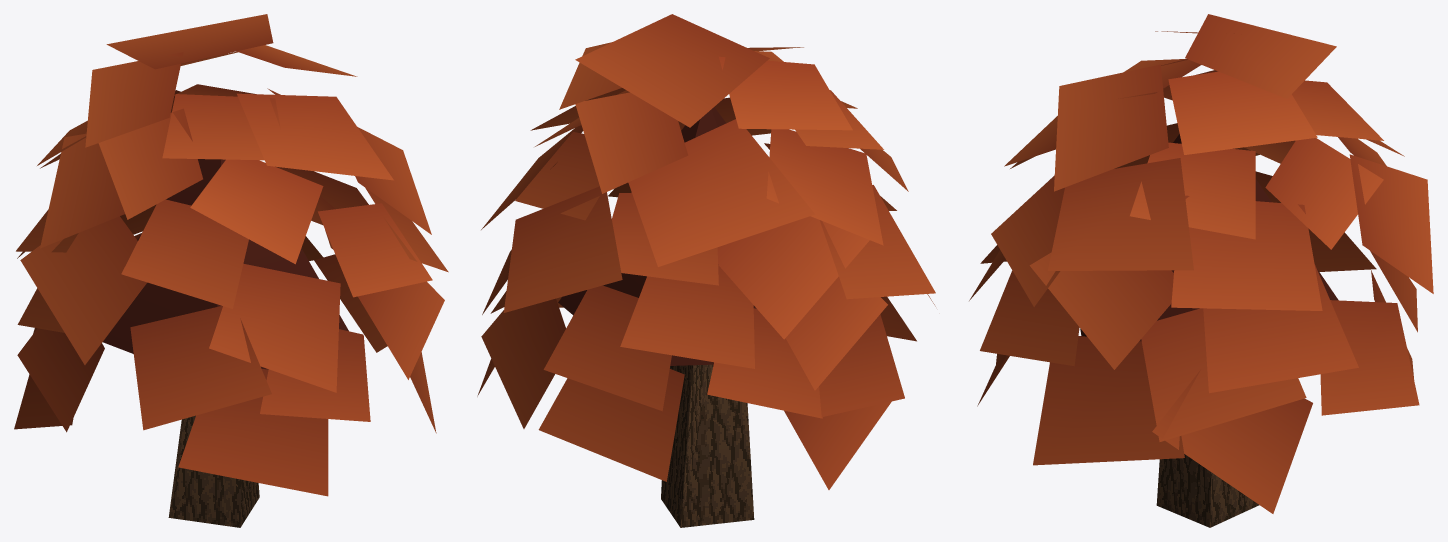
File: tree_far_c.glb
3 renders of one model, left to right at view 1: azimuth 30°, elevation 25°; view 2: azimuth 150°, elevation 25°; view 3: azimuth 270°, elevation 25°, orthographic. The views are drawn at different scales.
Visible parts, largest first — view 1: tree_far_c; view 2: tree_far_c; view 3: tree_far_c.
Boxes of the visible parts, box(x1,y1,x2,y2) form: tree_far_c: box(14, 14, 448, 527); tree_far_c: box(477, 14, 935, 527); tree_far_c: box(969, 14, 1433, 527).
Bounding box in the file's own units: 6.14 × 7.36 × 6.59.
Materials: 2 (1 with a texture image).
